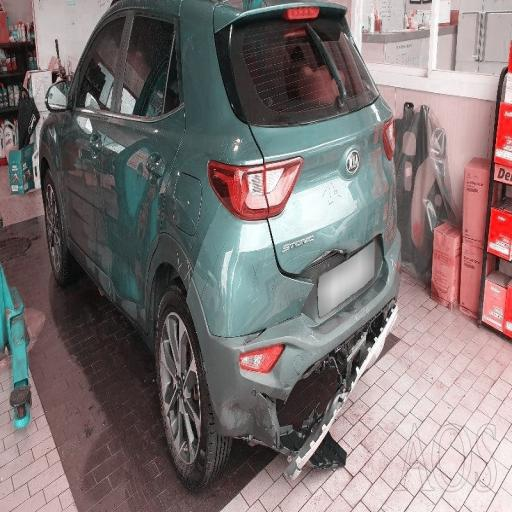broken: (234, 282, 413, 469)
dent: (95, 136, 173, 220)
scratch: (142, 214, 216, 300)
